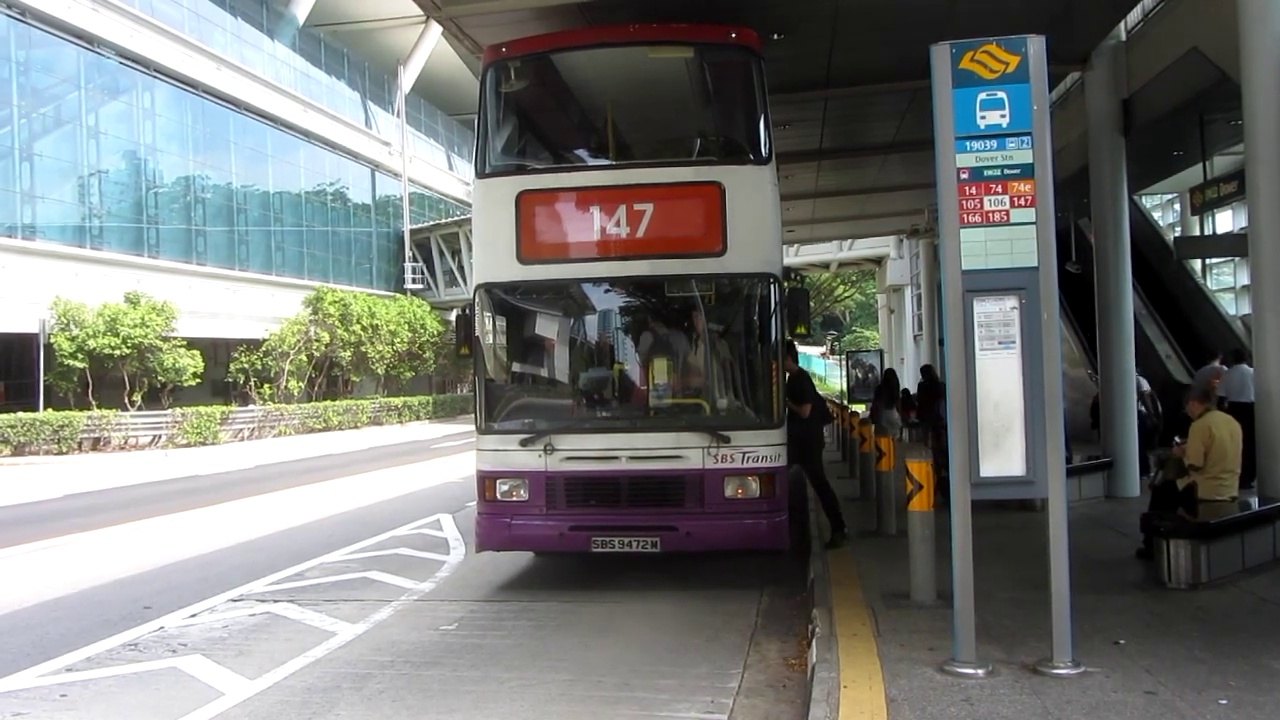bus panel: (512, 178, 731, 268)
